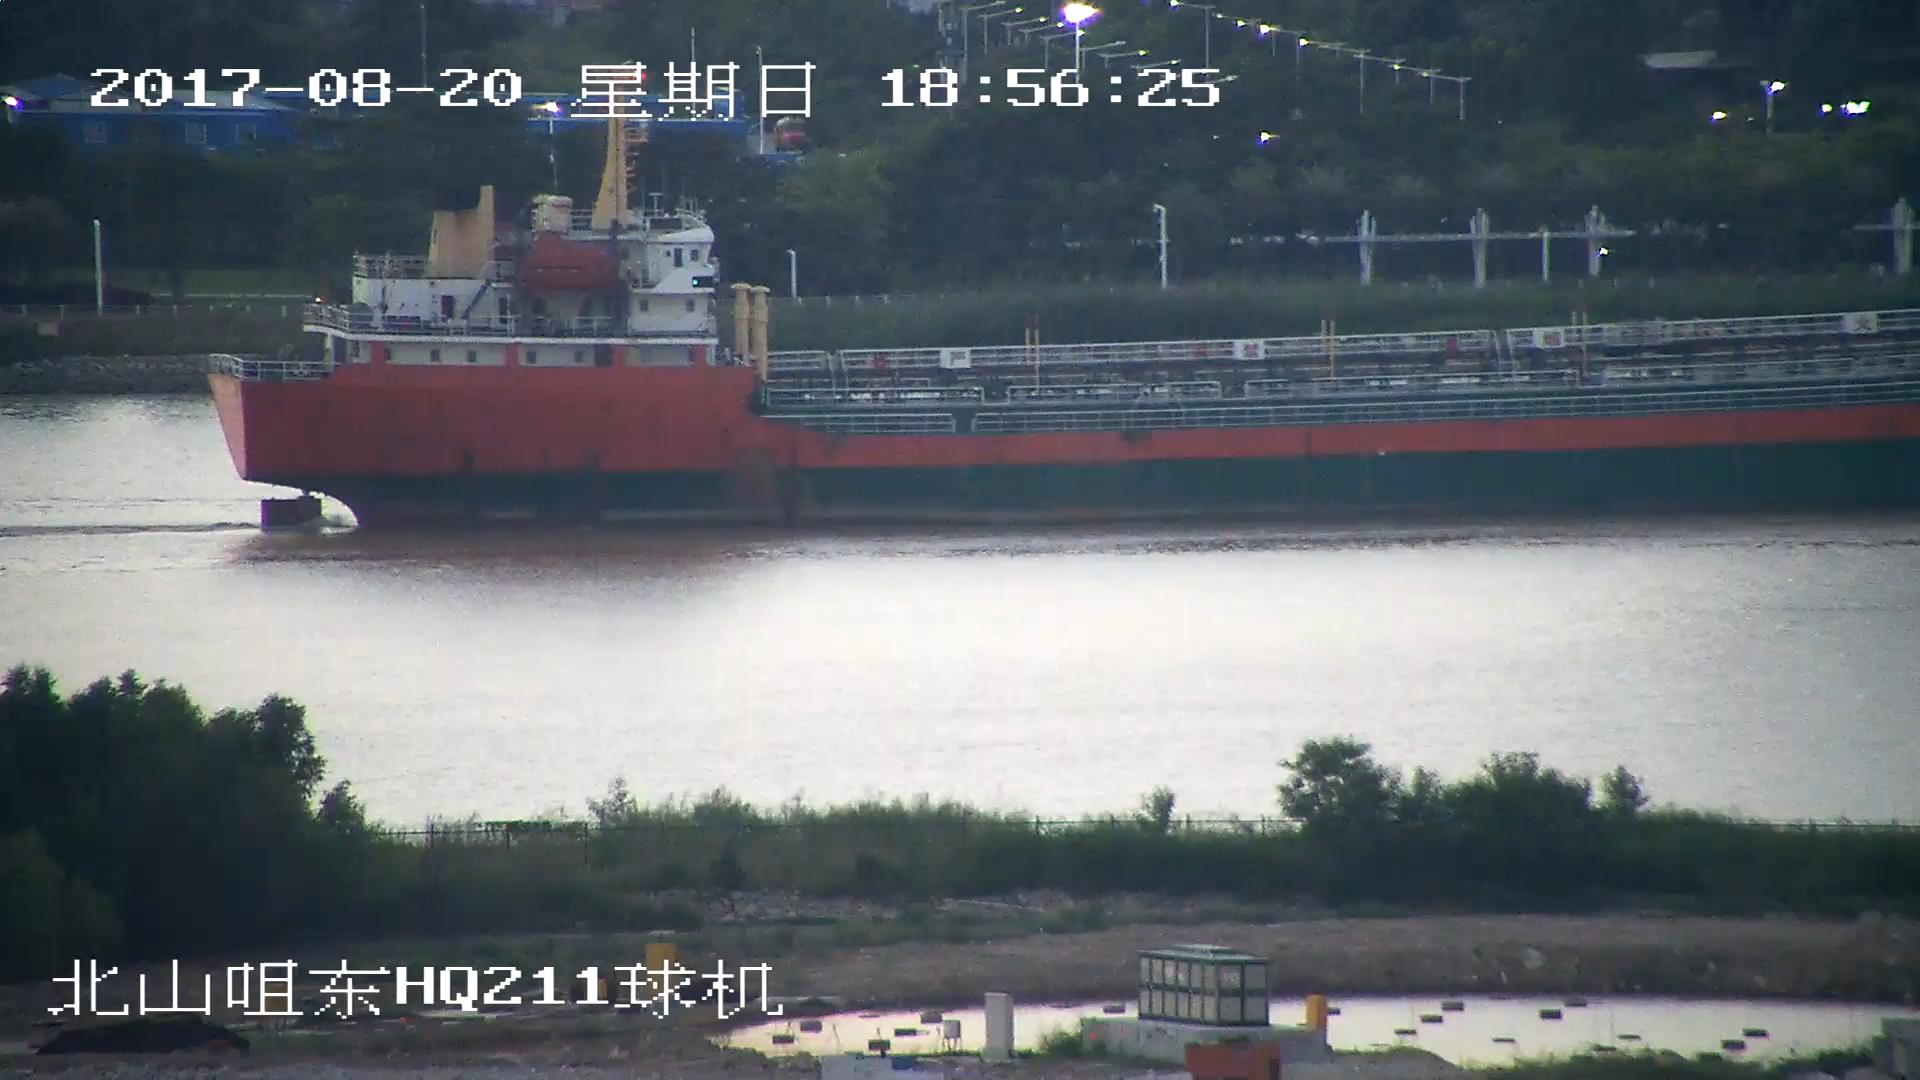general cargo ship: (193, 110, 1920, 527)
